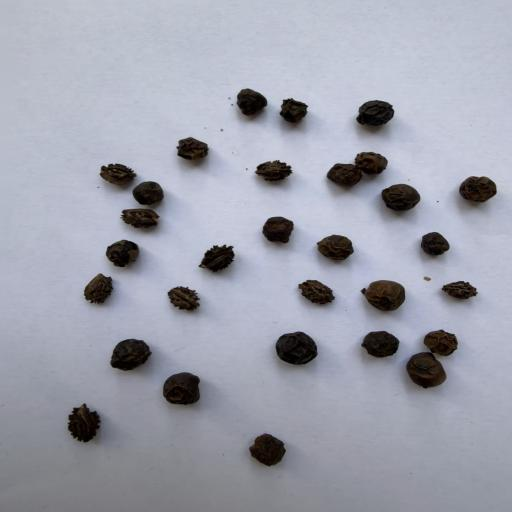Black_pepper: (159, 366, 218, 418), (86, 334, 158, 376), (358, 270, 416, 316), (265, 328, 321, 370), (449, 165, 501, 209), (242, 427, 294, 470), (224, 82, 278, 122), (373, 179, 428, 218), (354, 90, 400, 136), (100, 235, 147, 276), (163, 133, 214, 170), (414, 322, 466, 357), (276, 96, 321, 136), (252, 206, 296, 246), (404, 352, 448, 390), (357, 326, 400, 364), (408, 228, 453, 262), (315, 231, 357, 264), (131, 178, 170, 208), (352, 145, 389, 174), (321, 162, 361, 188)
papaya_seed: (183, 236, 254, 280), (58, 405, 114, 449), (154, 280, 212, 316), (72, 274, 126, 310), (293, 274, 340, 312), (252, 153, 297, 191), (440, 277, 484, 310), (114, 205, 165, 233), (99, 154, 137, 190)
